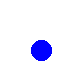circle: (31, 40, 51, 60)
